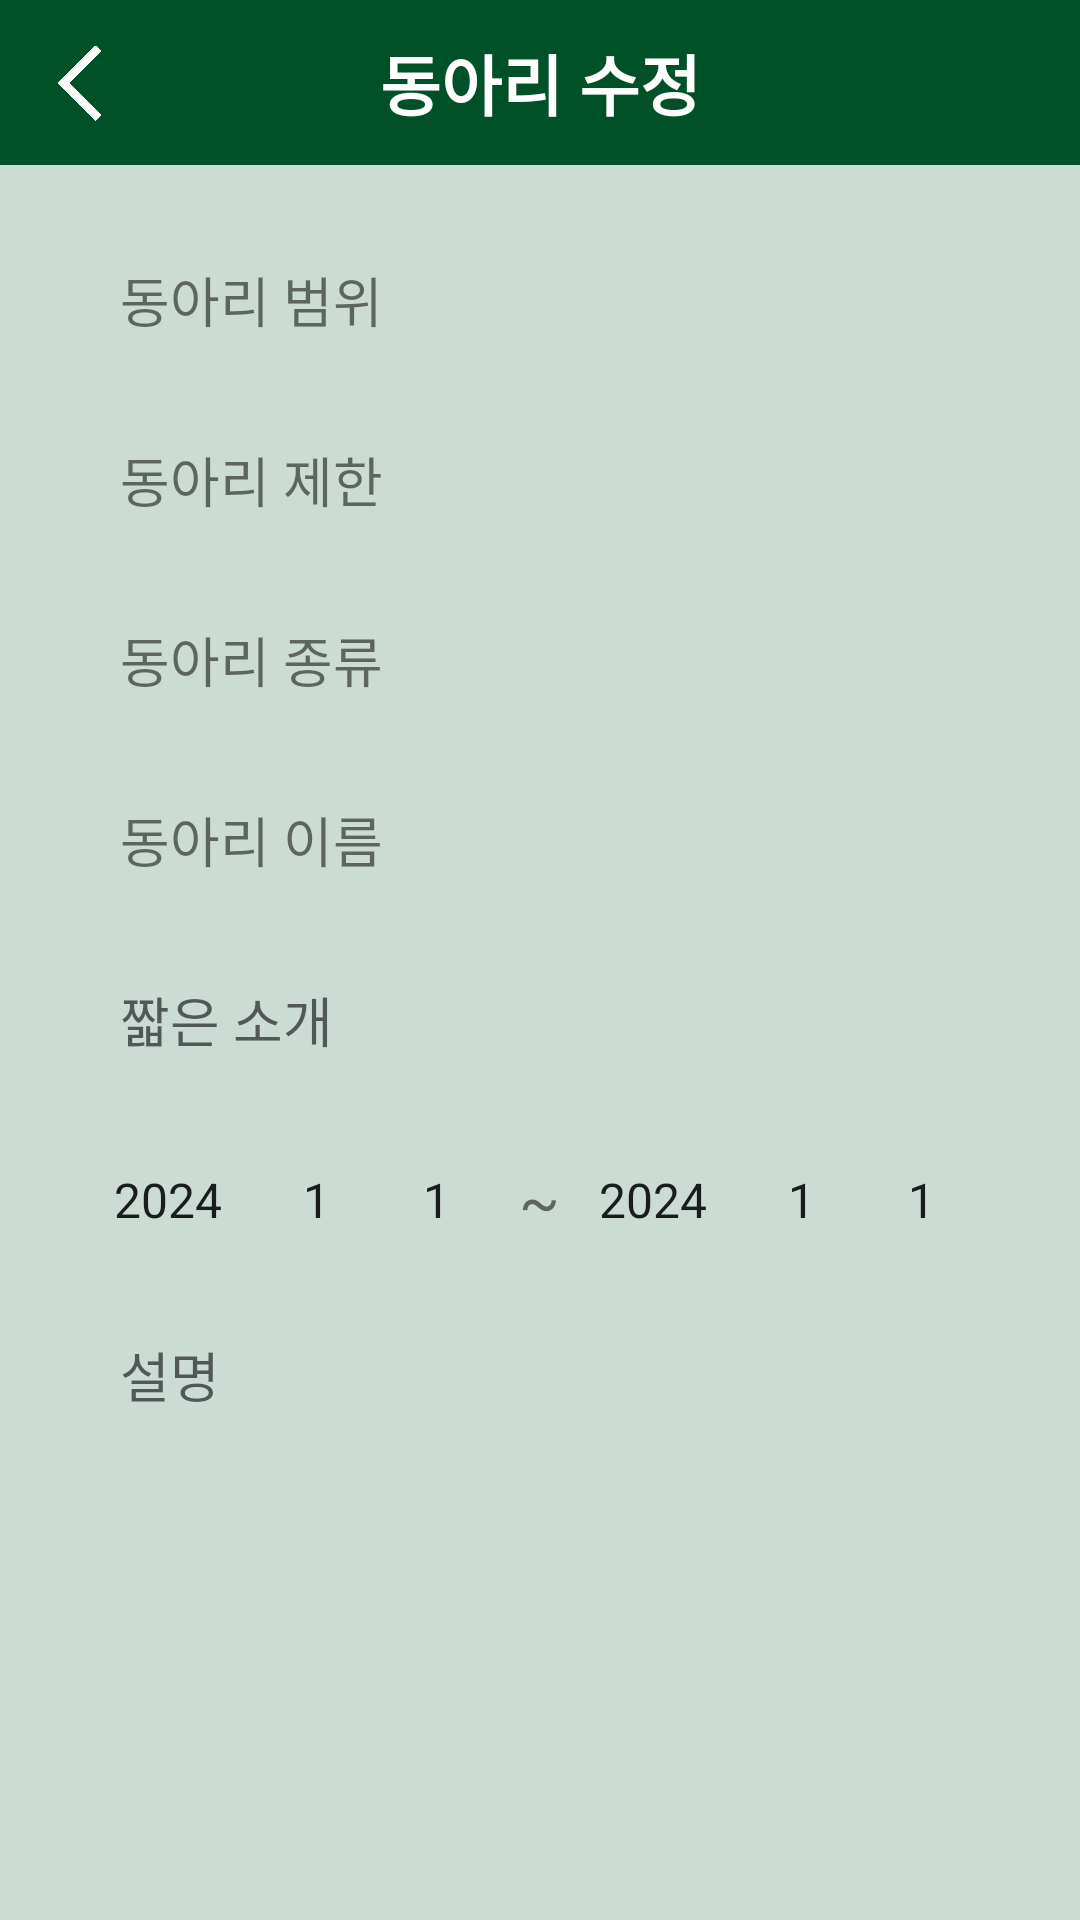

Screen size 1080×1920. Icon name, then its box in pixels as [left=x1, top=y1, right=x2, bottom=y2]:
backward: [left=58, top=46, right=101, bottom=121]
